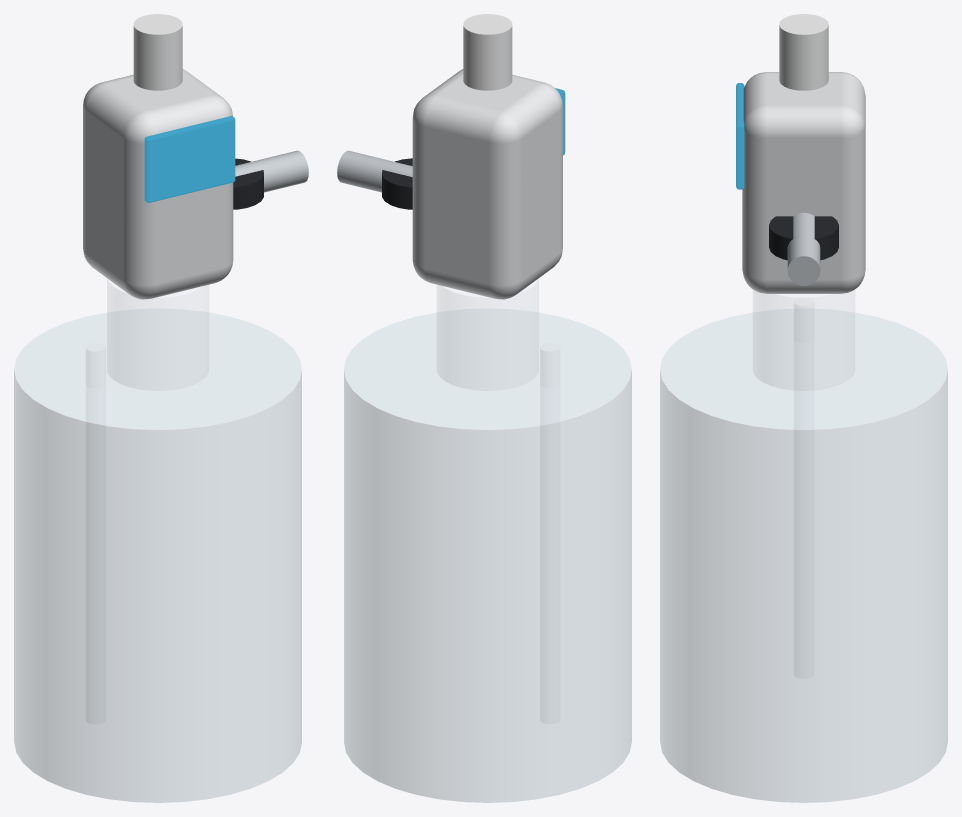
Rendered from ndb-1.glb.
3 renders of one model, left to right at view 1: azimuth 30°, elevation 25°; view 2: azimuth 150°, elevation 25°; view 3: azimuth 270°, elevation 25°, orthographic.
Bounding box in the file's own units: 0.15 × 0.385 × 0.14.
